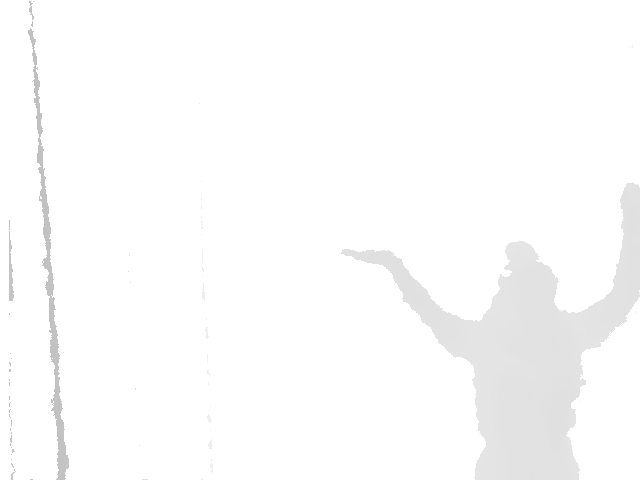hand: (619, 182, 640, 235)
head: (483, 240, 563, 326)
person: (342, 182, 637, 480)
